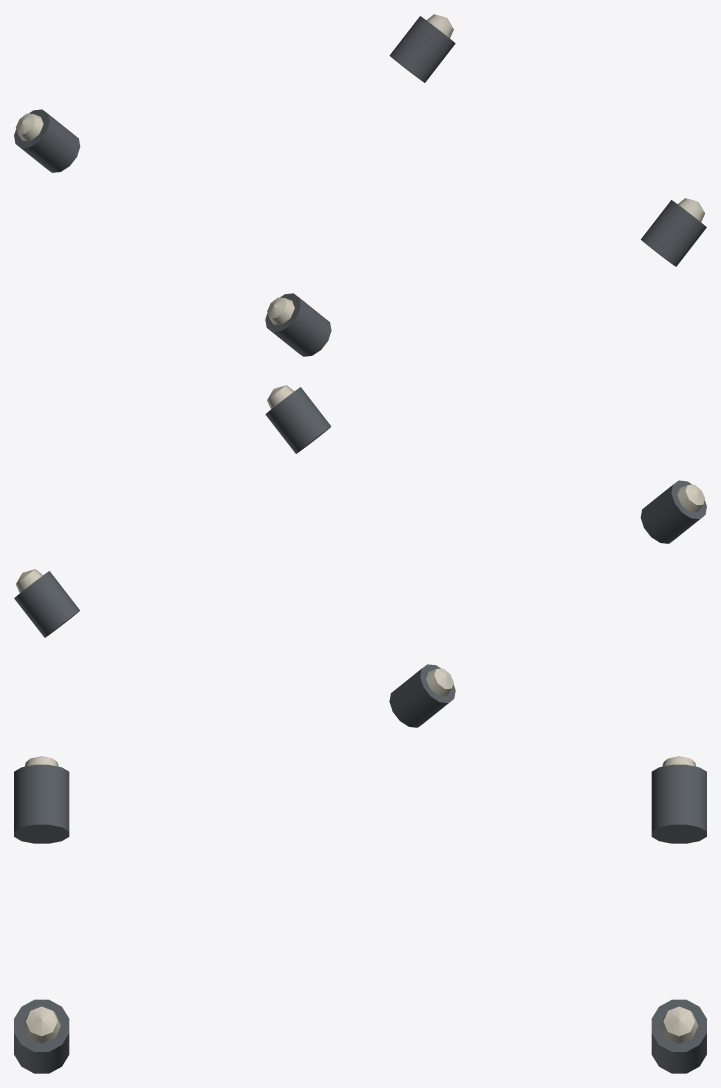
File: sr150_sensors.obj
The picture shows the model from 3 angles, top to bottom: view 1: azimuth 30°, elevation 25°; view 2: azimuth 150°, elevation 25°; view 3: azimuth 270°, elevation 25°; orthographic projection. The views are drawn at different scales.
Visible parts, largest first — view 1: sr150_sensors; view 2: sr150_sensors; view 3: sr150_sensors.
Boxes of the visible parts, x1,y1,x2,y2 form: sr150_sensors: (14,14,706,356); sr150_sensors: (14,385,706,727); sr150_sensors: (14,756,706,1073).
Bounding box in the file's own units: 0.997 × 0.1333 × 1.09.
